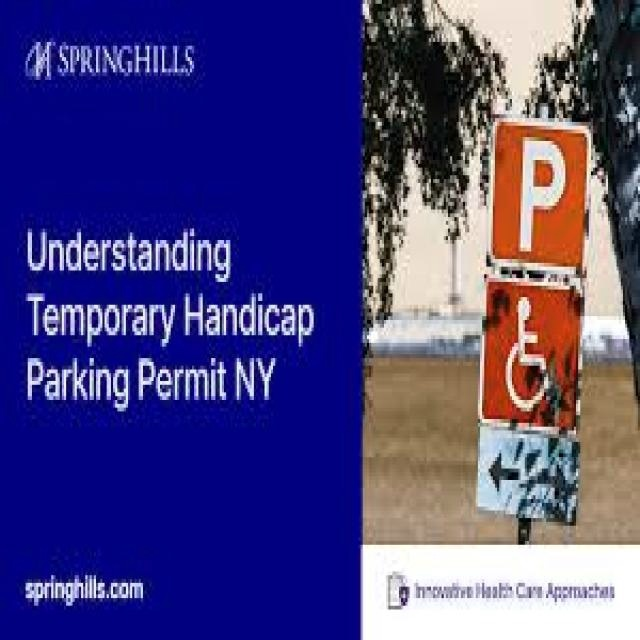ISA: (506, 296, 562, 412)
